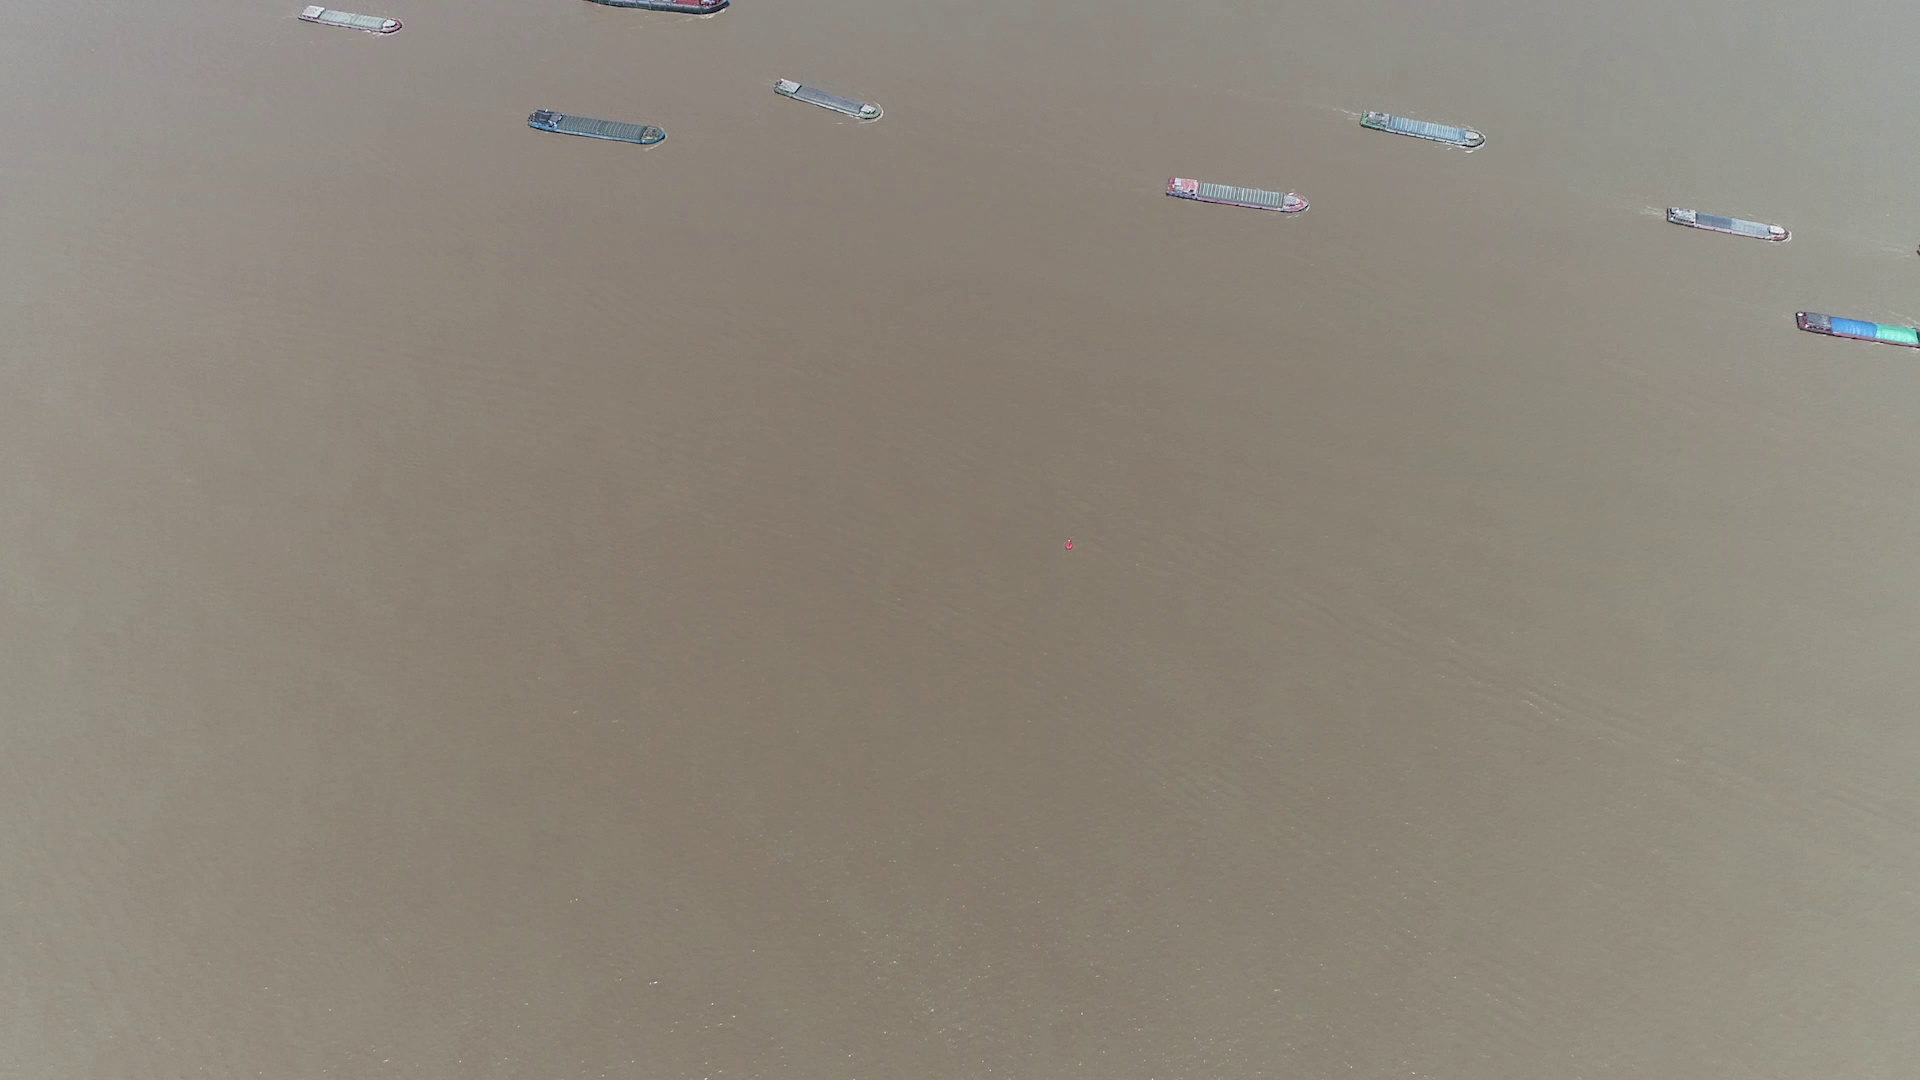ship: (1167, 175, 1308, 214), (1795, 309, 1920, 351), (1358, 108, 1484, 150), (527, 109, 667, 146), (774, 79, 882, 123), (1665, 204, 1789, 241), (295, 5, 401, 36), (585, 0, 731, 12)
